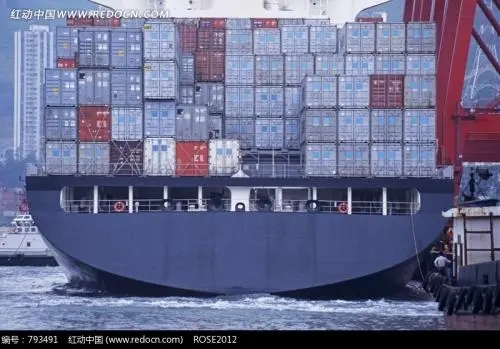Cargoship: (17, 1, 461, 284)
